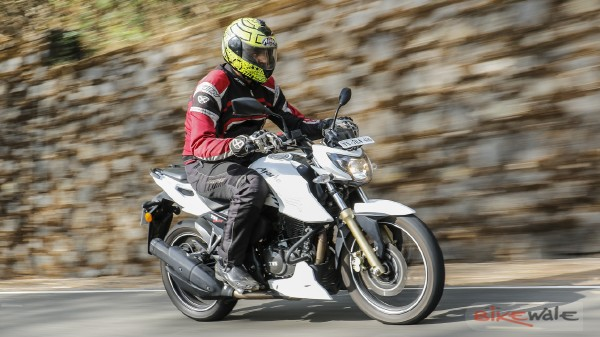helmet: (223, 18, 277, 82)
